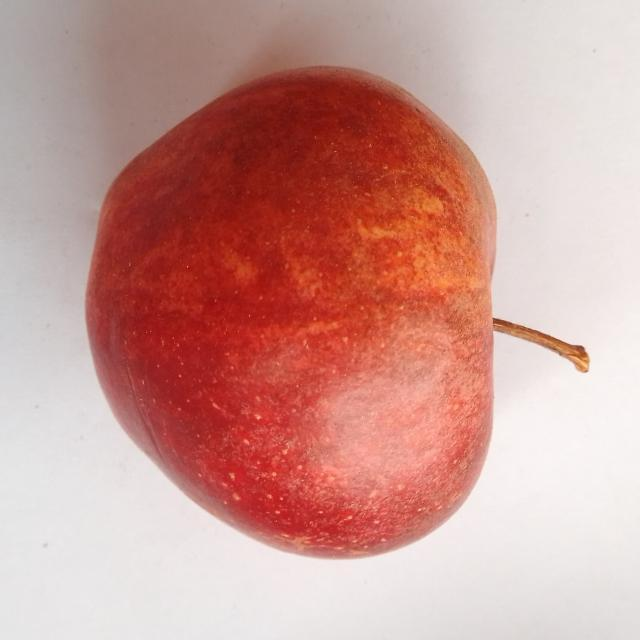Fresh Apple: (80, 65, 500, 565)
